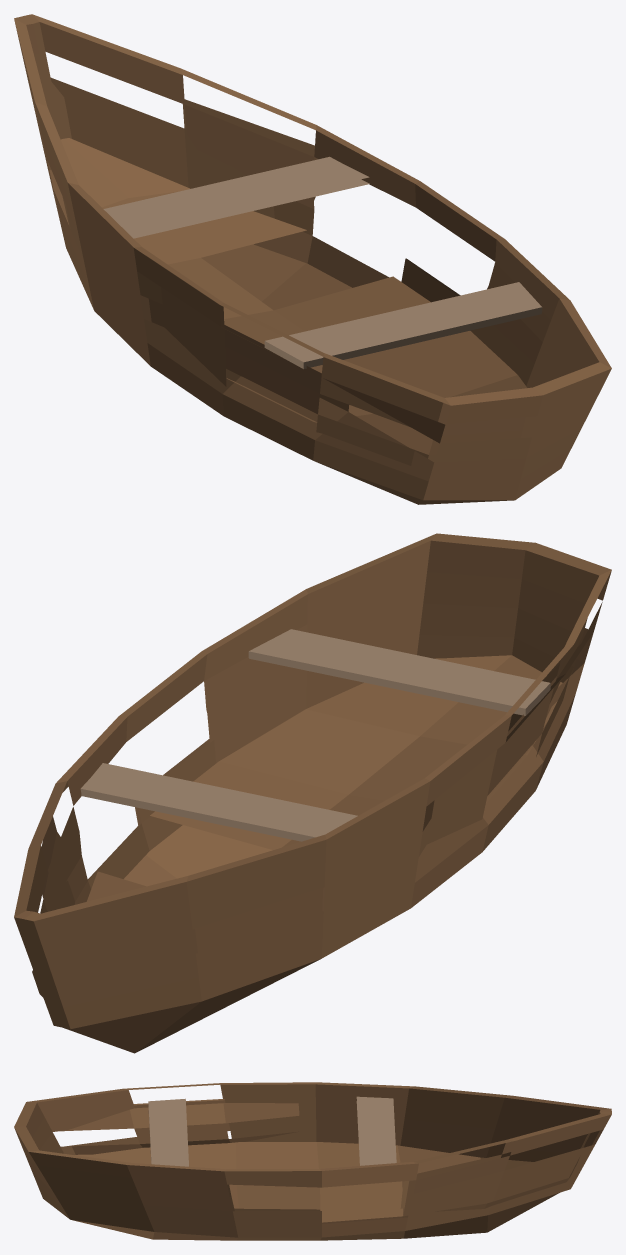
Rendered from 07 Boat_Broken_4.FBX.
3 renders of one model, top to bottom at view 1: azimuth 30°, elevation 25°; view 2: azimuth 150°, elevation 25°; view 3: azimuth 270°, elevation 25°, orthographic. The views are drawn at different scales.
Parts seen in each view (by area): view 1: Cube004; view 2: Cube004; view 3: Cube004.
Part boxes in pixels (<box>): Cube004: <box>14,14,611,504</box>; Cube004: <box>14,533,611,1053</box>; Cube004: <box>14,1082,611,1240</box>.
Bounding box in the file's own units: 370 × 255 × 1082.
